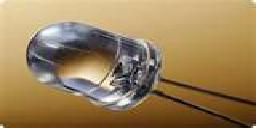LED: (23, 20, 193, 128)
